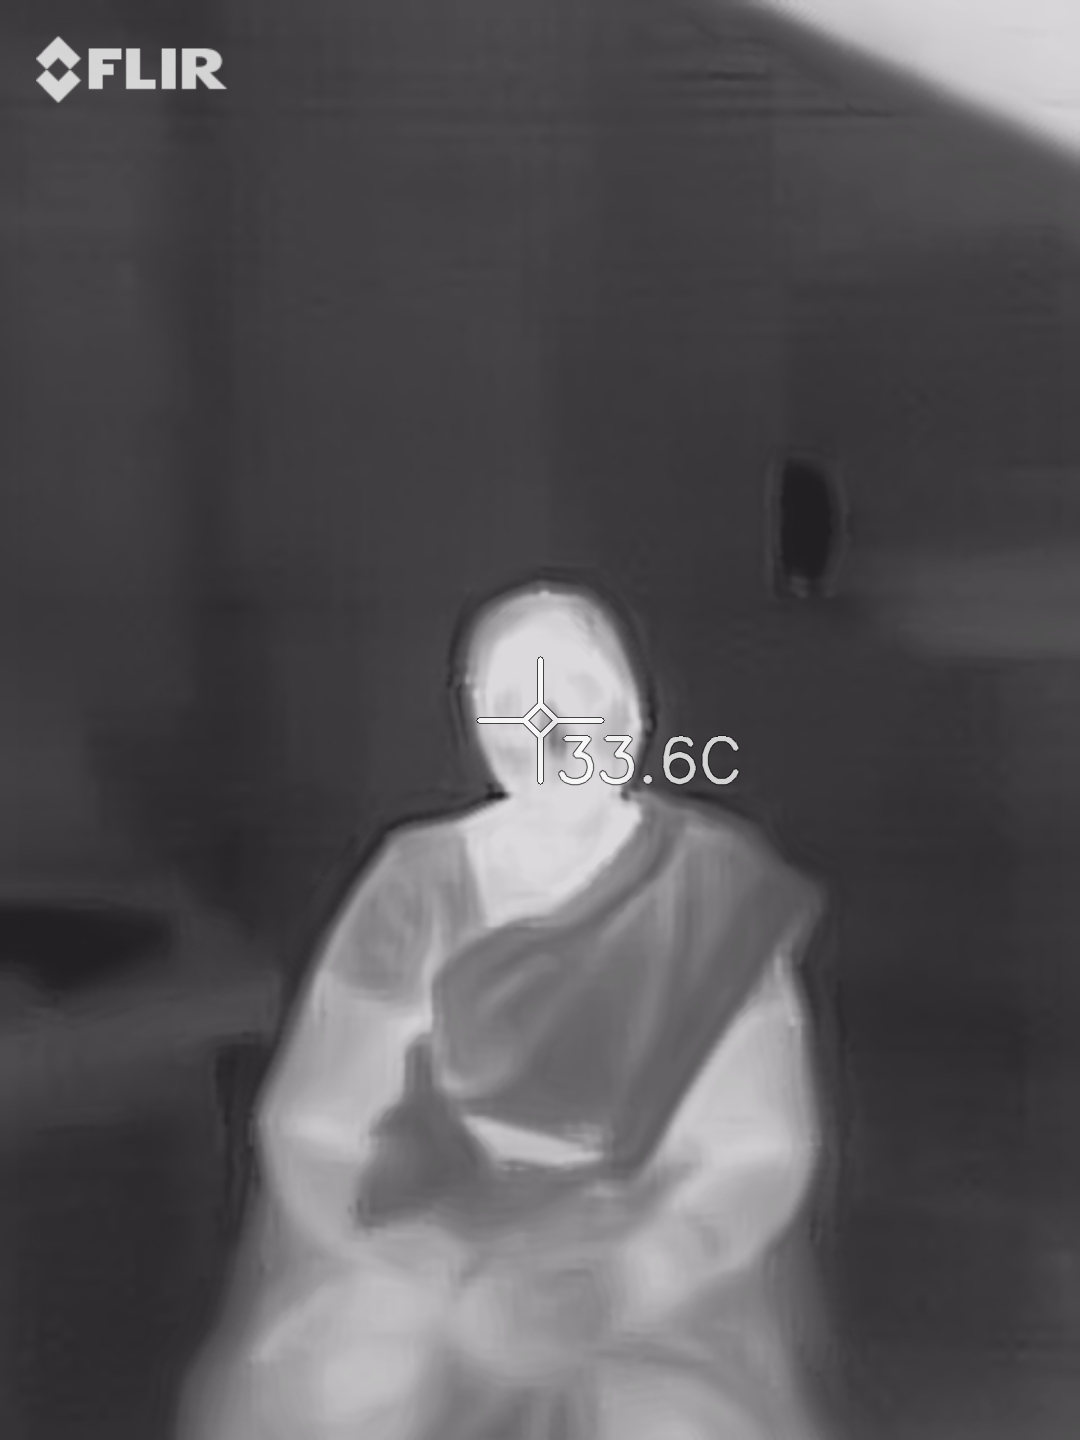head: (445, 578, 670, 838)
